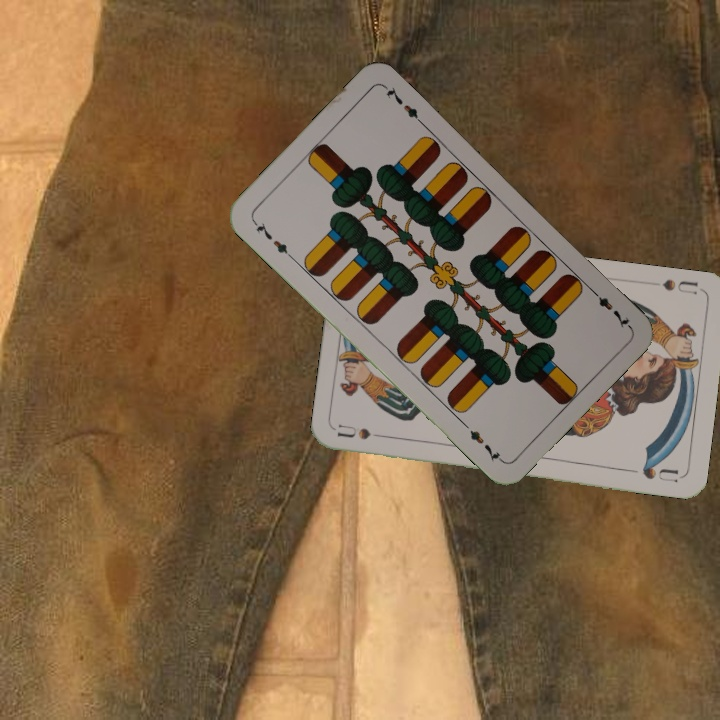E7: (586, 284, 633, 331), (249, 216, 296, 262)
SU: (334, 421, 394, 442), (659, 275, 704, 297)
